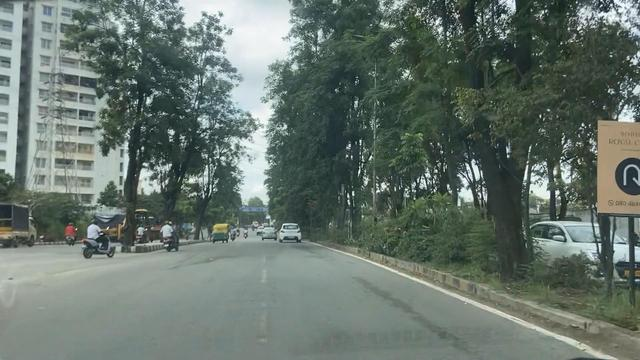LMV: (83, 229, 110, 255), (281, 222, 302, 242), (164, 223, 177, 248), (212, 223, 226, 242), (263, 226, 276, 242)
RoadDamages: (421, 315, 474, 355), (362, 279, 414, 311), (295, 243, 330, 257), (196, 256, 237, 263)
